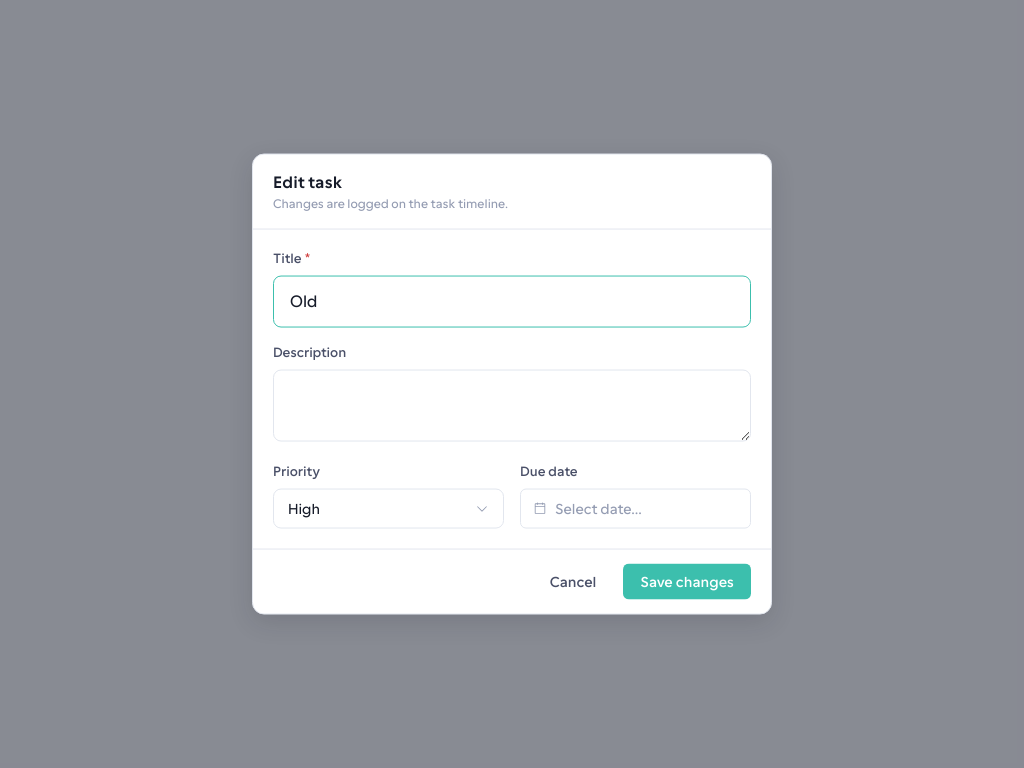
TaskFormDialog › editing: the button reads Save changes and is disabled if the title is cleared
This screenshot has width=1024, height=768.
Expected: the button "Save changes" is enabled, [623,564,751,600]
Clear the field labelled "Title *". click: (512, 302)
box: [273,276,751,328]
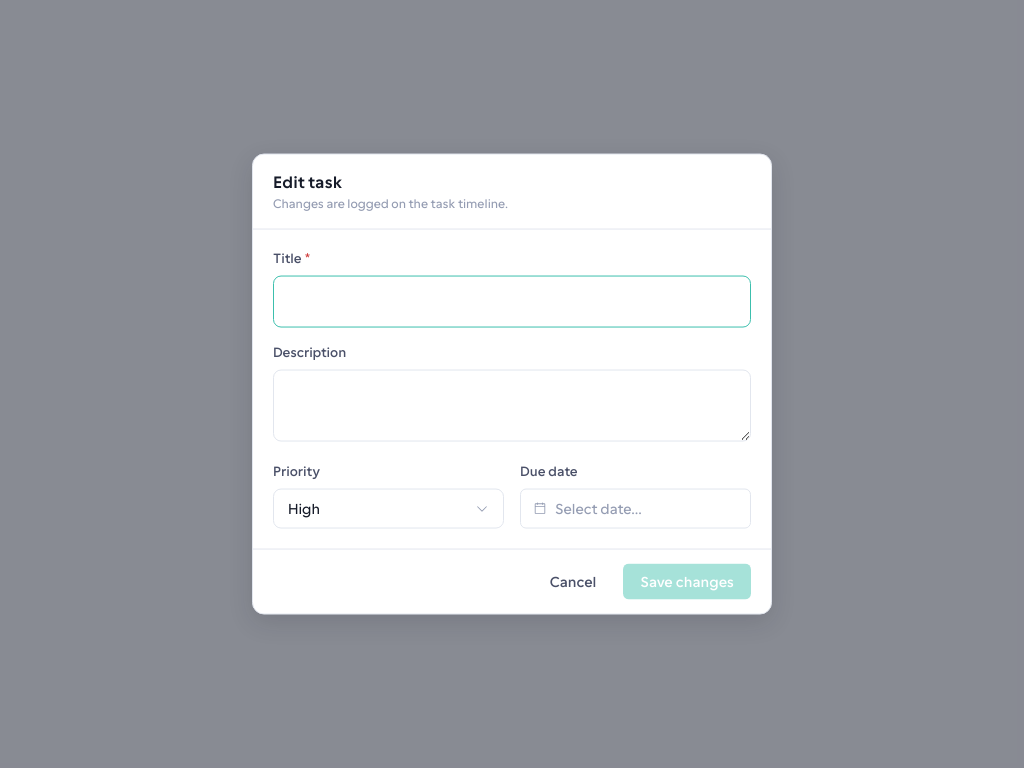
Now the button "Save changes" is disabled, box [623,564,751,600]
